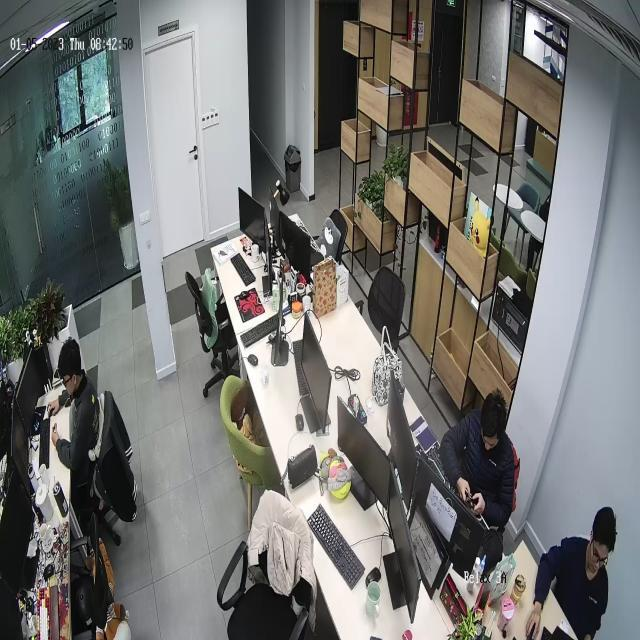person: (525, 506, 617, 640), (439, 388, 515, 533), (46, 339, 102, 496)
